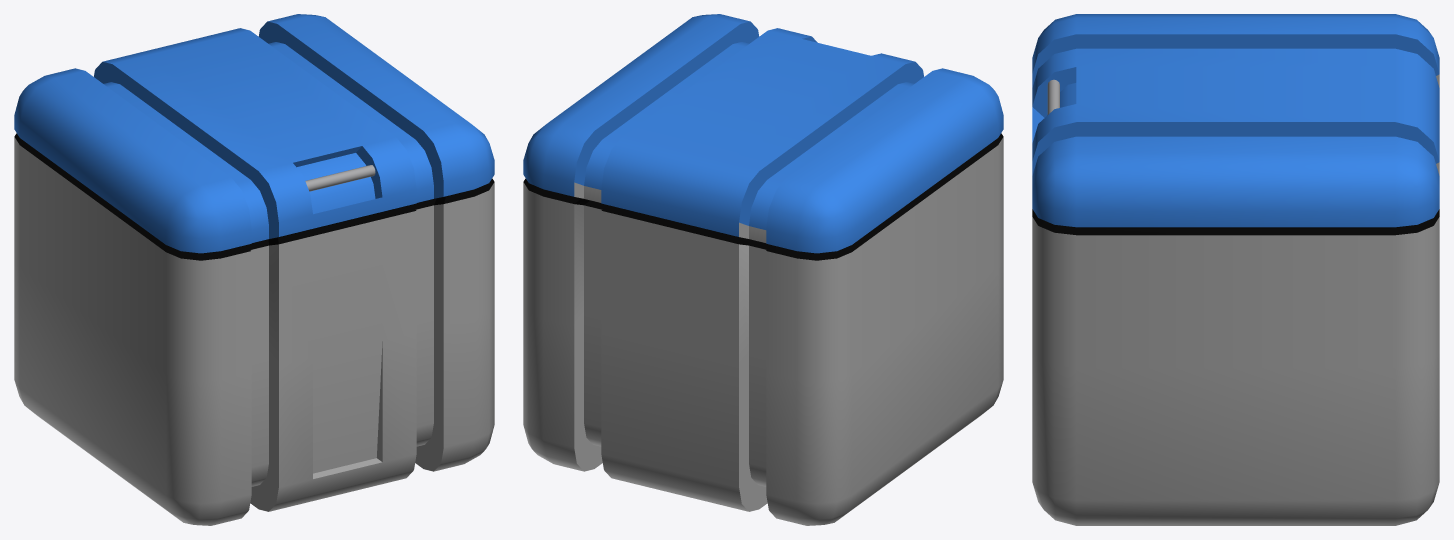
3 renders of one model, left to right at view 1: azimuth 30°, elevation 25°; view 2: azimuth 150°, elevation 25°; view 3: azimuth 270°, elevation 25°, orthographic. The views are drawn at different scales.
Parts seen in each view (by area): view 1: Cube; view 2: Cube; view 3: Cube.
Boxes of the visible parts, x1,y1,x2,y2 form: Cube: [14, 14, 494, 525]; Cube: [523, 14, 1003, 525]; Cube: [1032, 14, 1439, 525].
Bounding box in the file's own units: 200 × 200 × 200.
